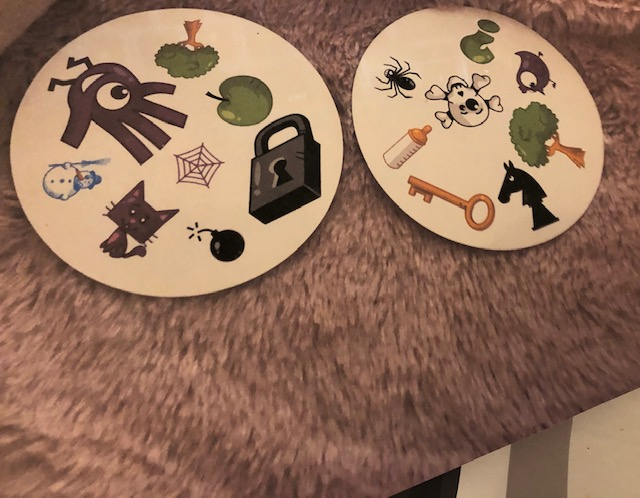araignee: (373, 53, 422, 102)
arbre: (506, 103, 586, 174), (153, 16, 220, 78)
biberon: (382, 123, 437, 174)
bombe: (183, 217, 249, 263)
bonhomme_neige: (38, 157, 114, 202)
cadenas: (240, 106, 323, 227)
chat: (95, 179, 181, 260)
cheval: (494, 160, 560, 230)
cle: (403, 175, 501, 232)
dooble: (41, 51, 187, 166)
oiseau: (509, 46, 558, 98)
point_interrogation: (454, 17, 507, 66)
pomme: (205, 73, 273, 127)
tete_mort: (421, 66, 507, 132)
toile: (169, 136, 227, 190)
